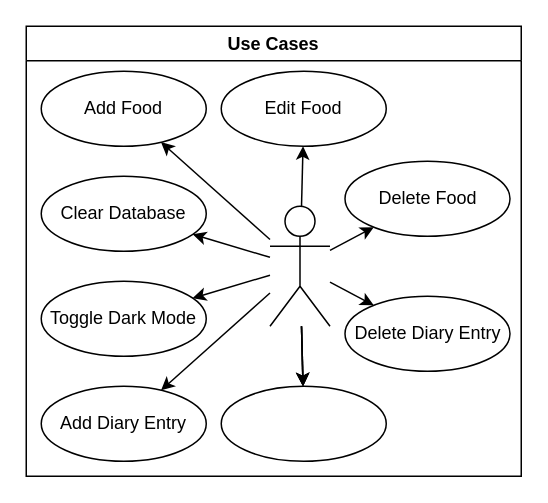
This 548x503 diagram has some shape labels left out. Here are the shapes that lost their labels. From the top down, the centre of each, then its label:
At pixel 299 265: "User".
At pixel 303 423: "Edit Diary Entry".
